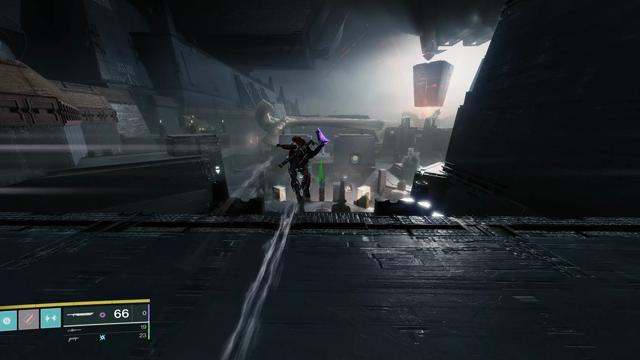traveler: (351, 155, 360, 164)
